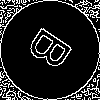B: (25, 25, 82, 78)
